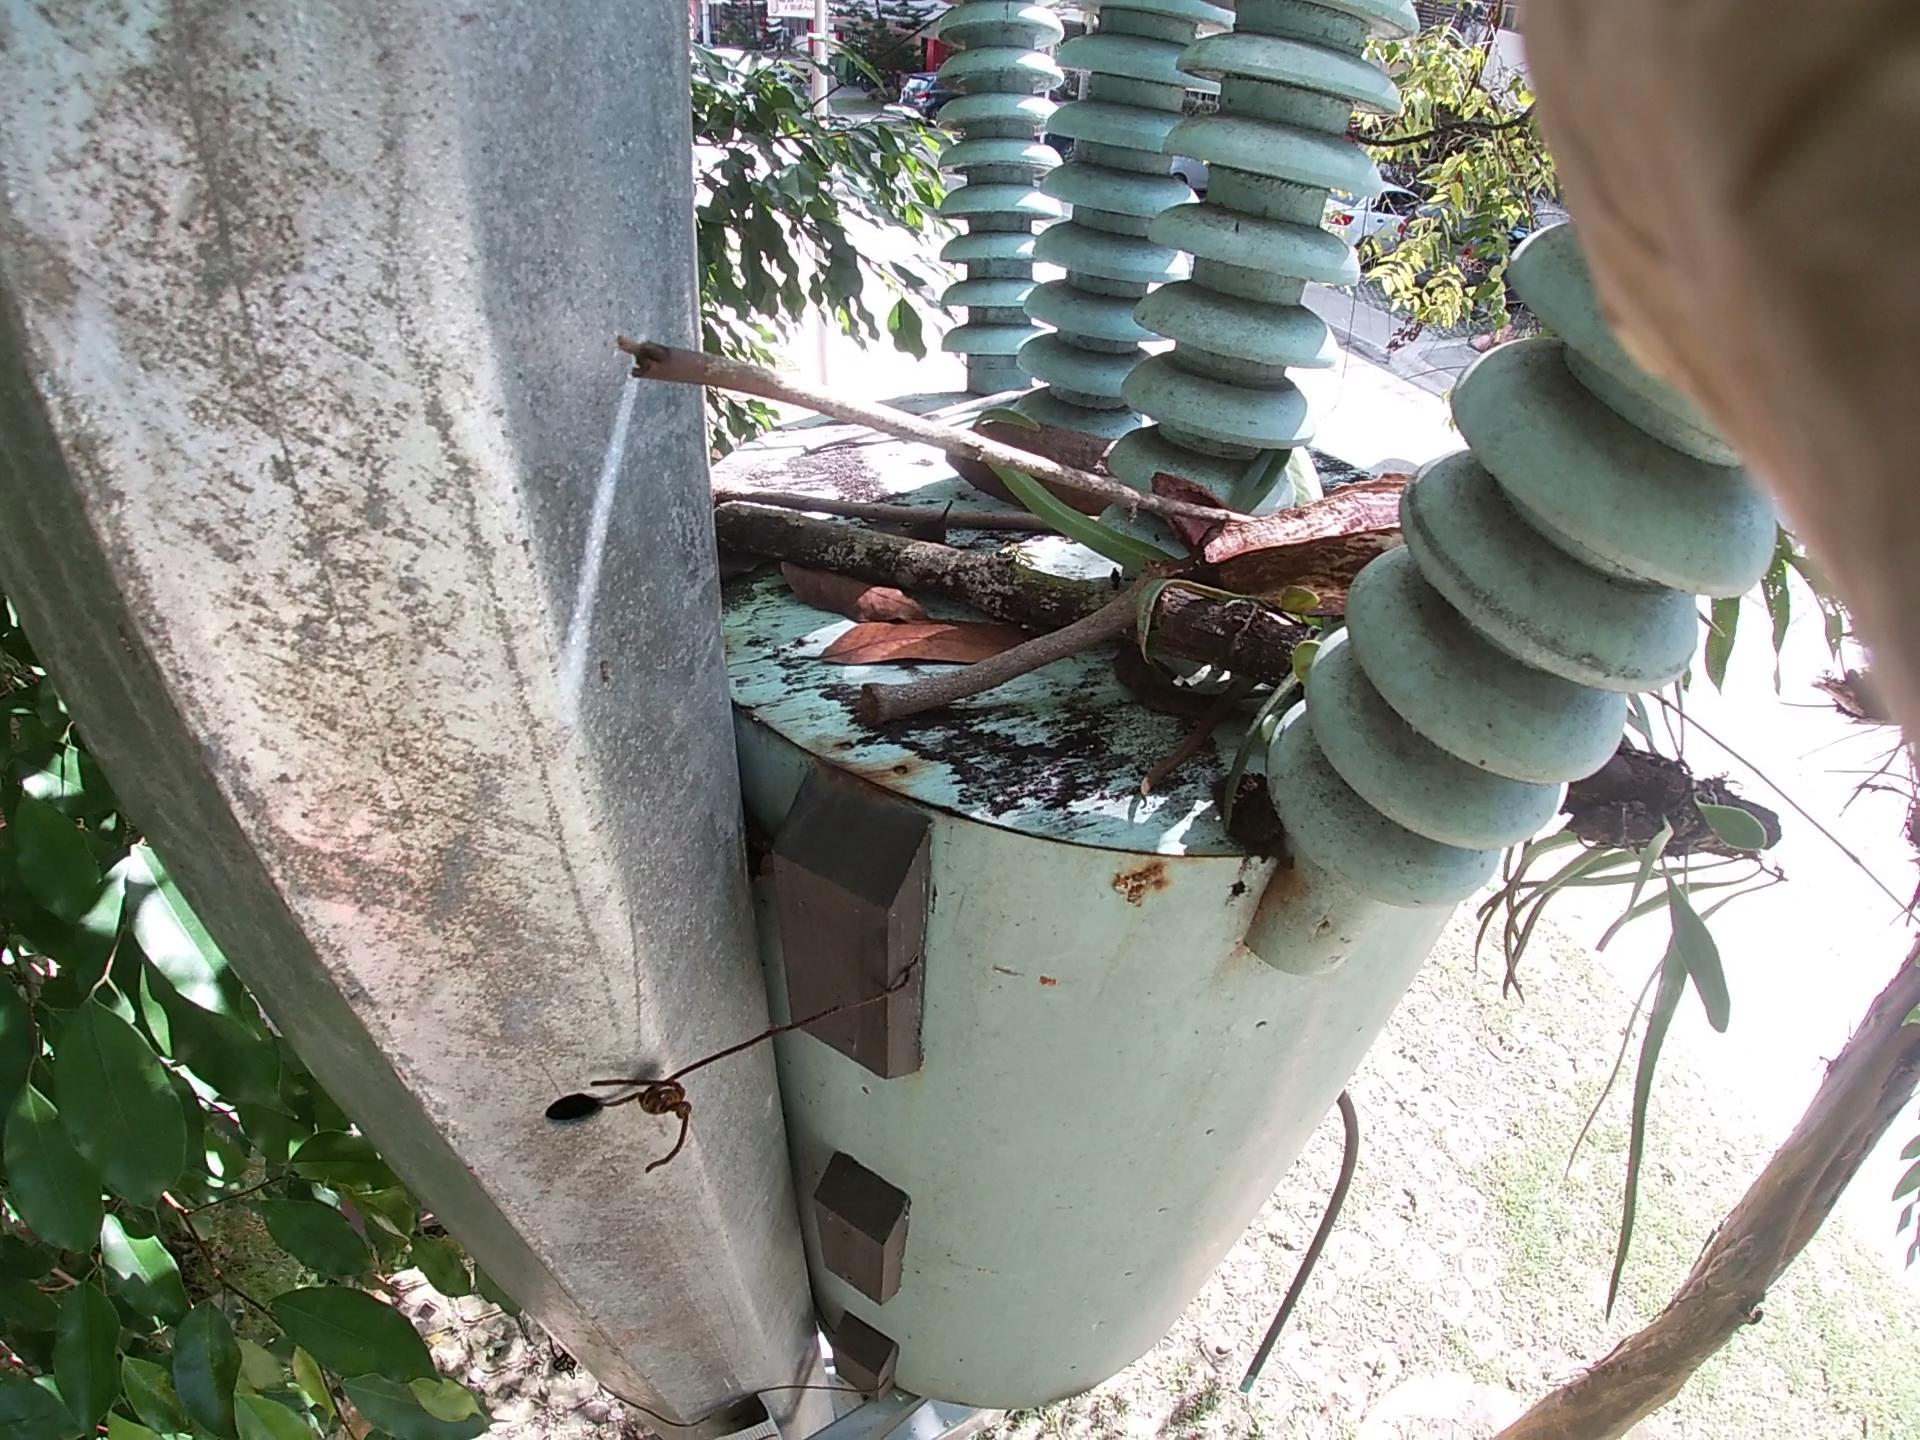branch with leaves: (685, 431, 1853, 954)
leaf: (779, 507, 1005, 706)
mahogany fruit: (957, 405, 1297, 557), (1110, 510, 1468, 631)
tree branch: (597, 281, 1318, 551), (792, 560, 1312, 771), (803, 324, 1137, 493)
